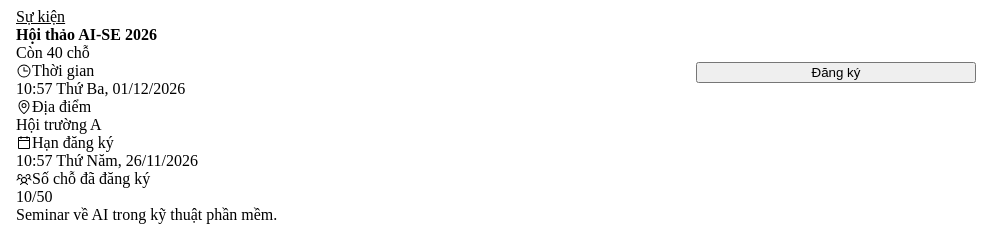
Test: đăng ký lỗi 422 registration_closed: hiện thông báo, tải lại sự kiện, không báo thành công
Click the button "Đăng ký" at (836, 72), box [696,62,976,83]
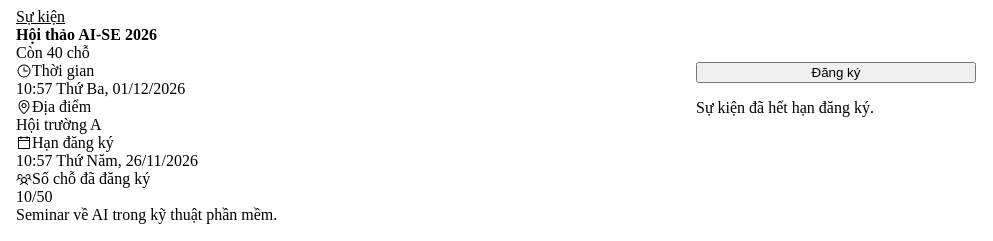
Check: the text "Sự kiện đã hết hạn đăng ký." is shown, box [696,99,874,116]
